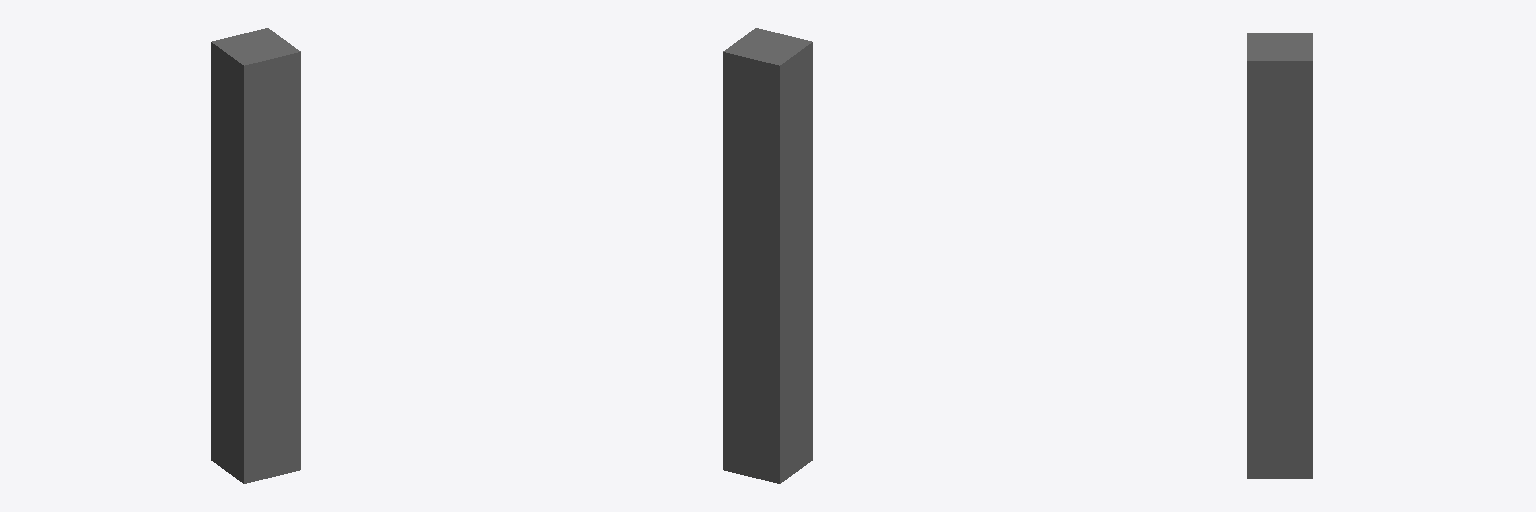
The picture shows the model from 3 angles: view 1: azimuth 30°, elevation 25°; view 2: azimuth 150°, elevation 25°; view 3: azimuth 270°, elevation 25°; orthographic projection.
Visible parts, largest first — view 1: object 1; view 2: object 1; view 3: object 1.
Boxes of the visible parts, <box> form: object 1: <box>211,28,300,483</box>; object 1: <box>723,28,812,483</box>; object 1: <box>1247,33,1312,478</box>.
Bounding box in the file's own units: 2 × 14 × 2.
Materials: 1 (1 with a texture image).